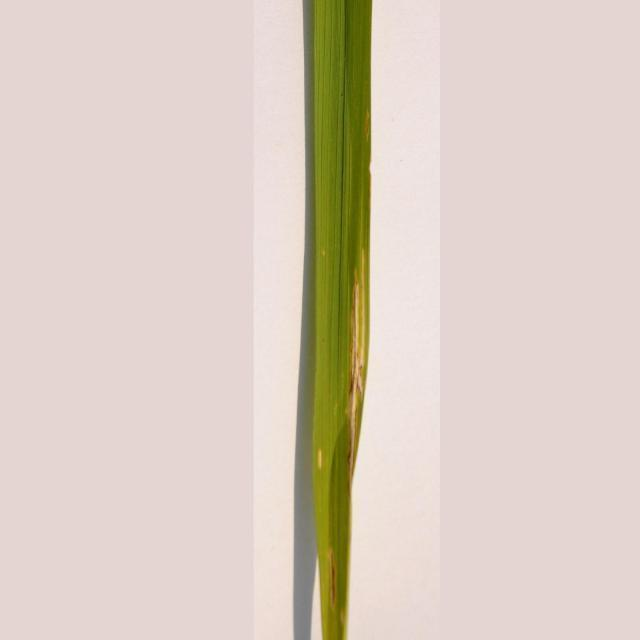Bacterial_Leaf_Blight: (319, 279, 388, 640)
